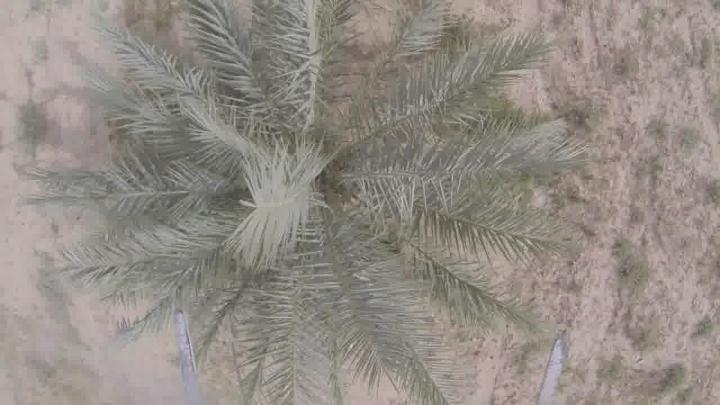Date-Palm-Crown: (162, 61, 468, 319)
